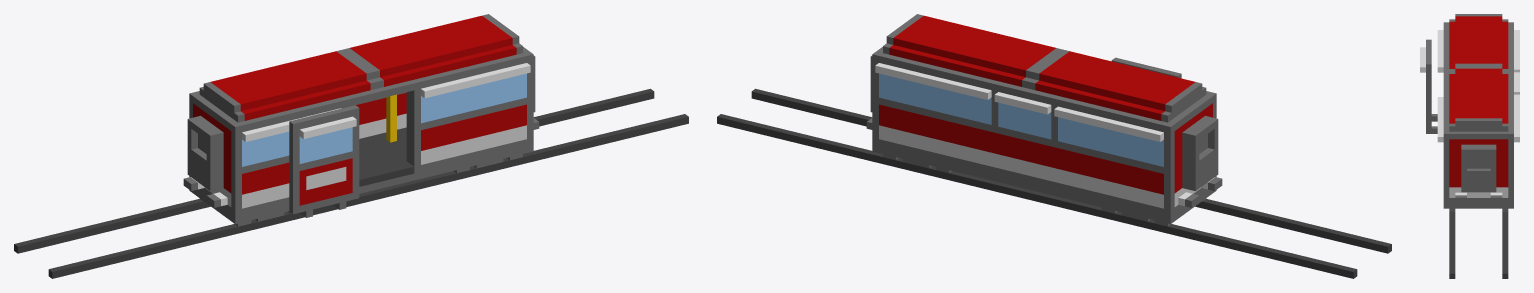
The model's file is scene_train.obj.
The picture shows the model from 3 angles, left to right: view 1: azimuth 30°, elevation 25°; view 2: azimuth 150°, elevation 25°; view 3: azimuth 270°, elevation 25°; orthographic projection. The views are drawn at different scales.
Size of the model in its own units: 9.6 by 1.8 by 1.7.
1 material, 1 textured.
